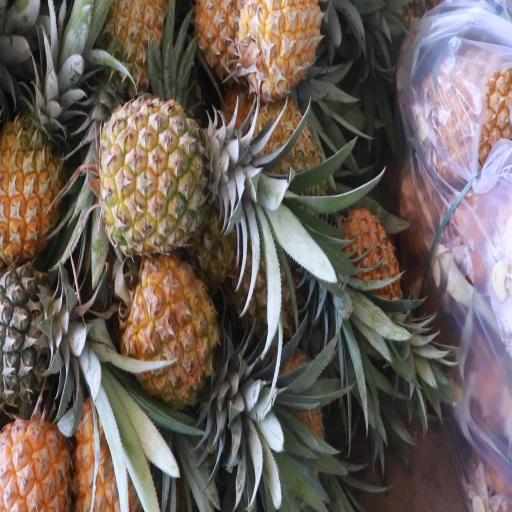Pineapple - v8 v1: (93, 107, 257, 256), (123, 255, 228, 438), (1, 79, 87, 262), (71, 348, 143, 512), (243, 0, 355, 105)
